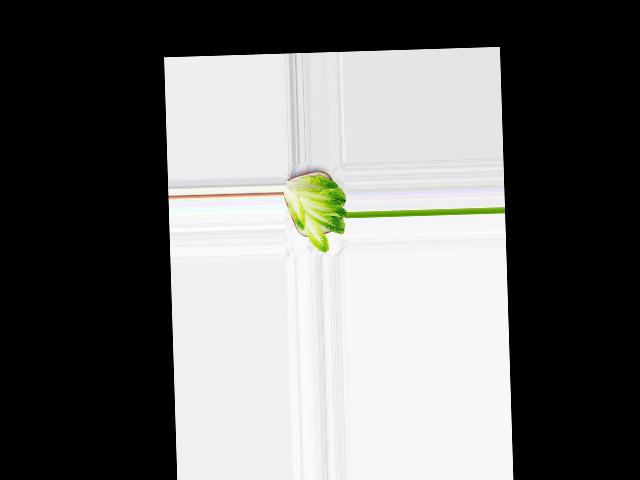lettuce: (284, 169, 349, 254)
